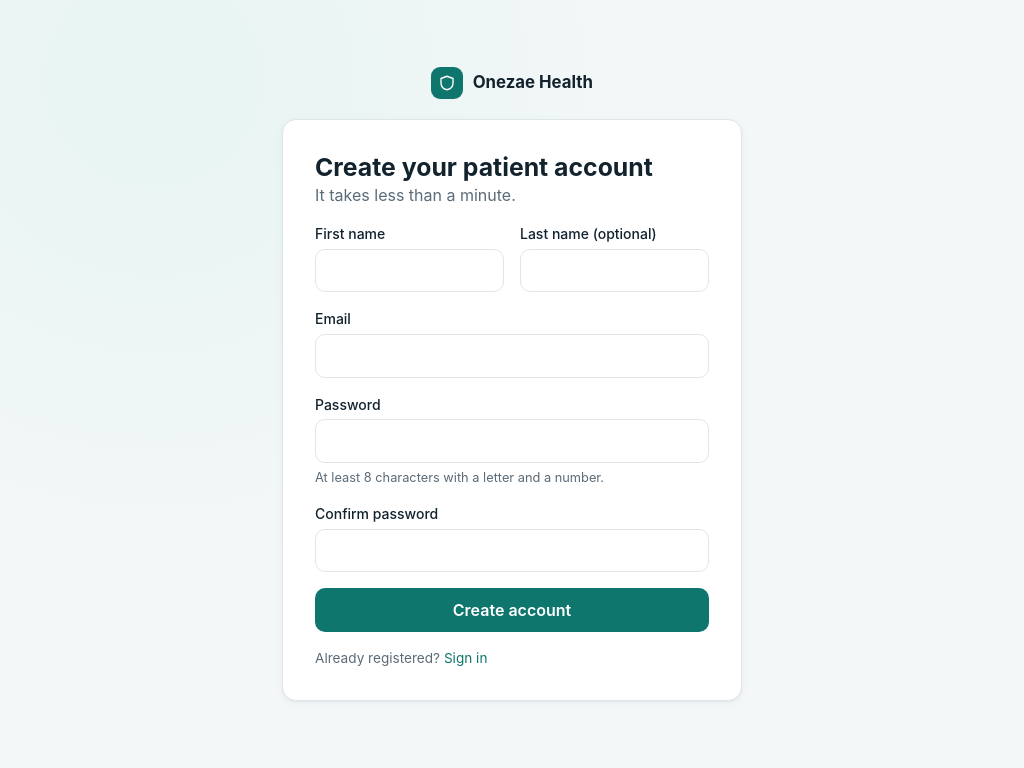
Test: RegisterPage › validates the form
Step 1. Type "not-an-email" into the field labelled "Email" → (512,356), box [315,334,709,378]
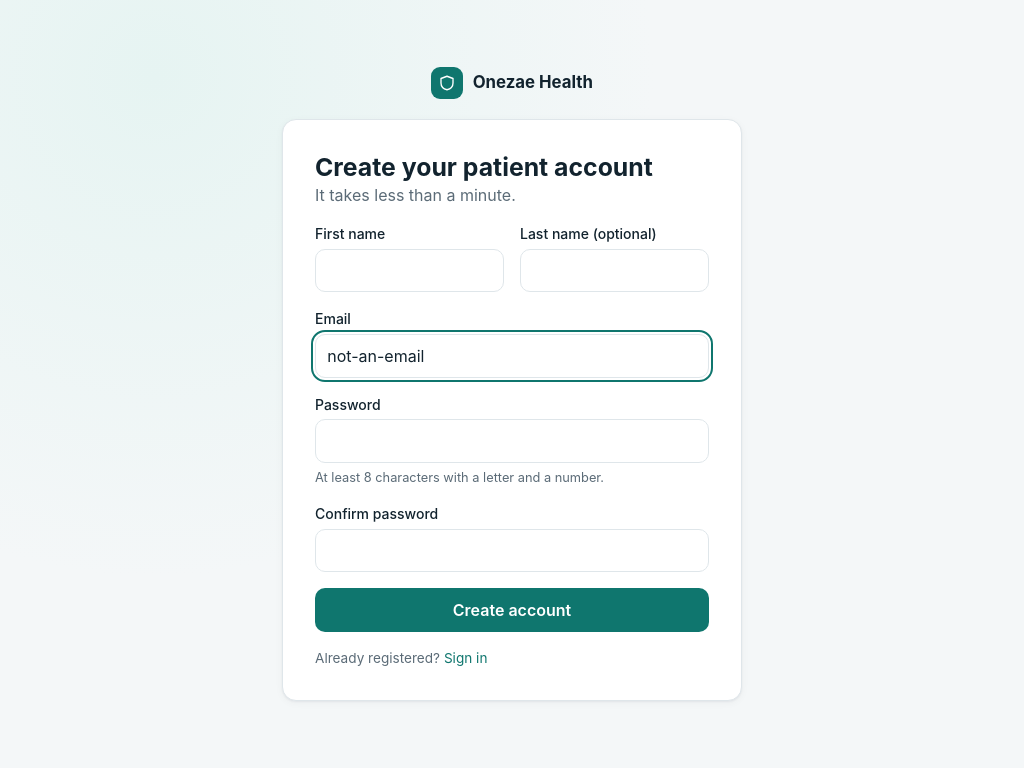
Step 2. Type "lettersonly" into the password field labelled "Password" → (512,441), box [315,419,709,463]
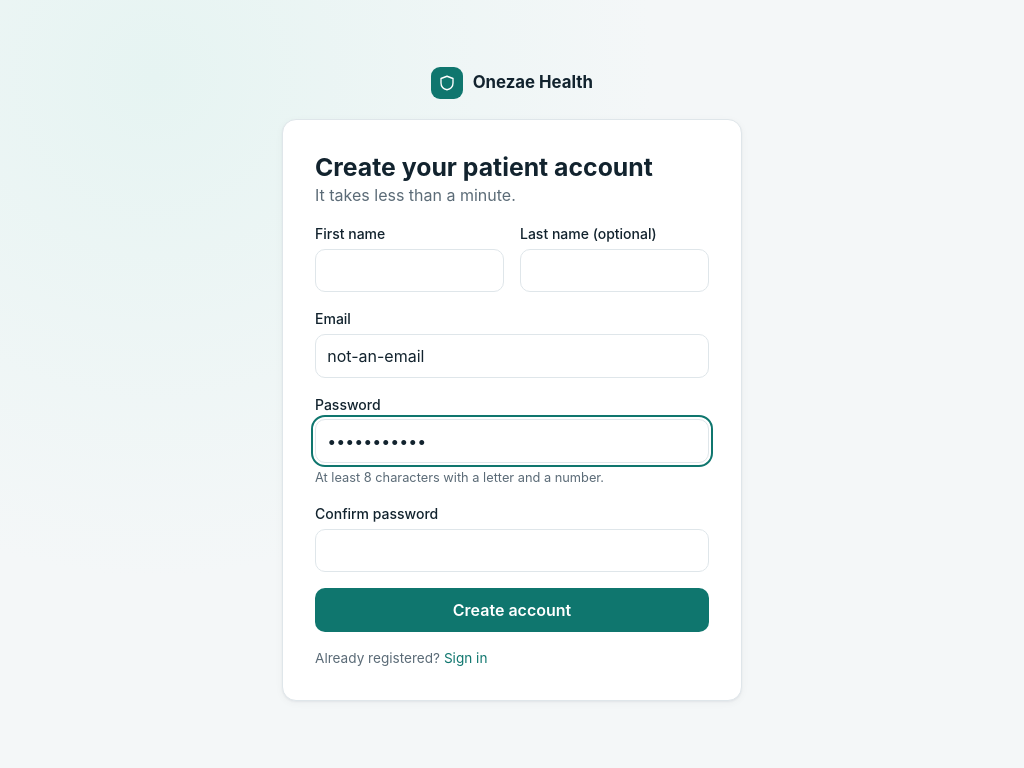
Step 3. Type "different1" into the password field labelled "Confirm password" → (512,550), box [315,529,709,572]
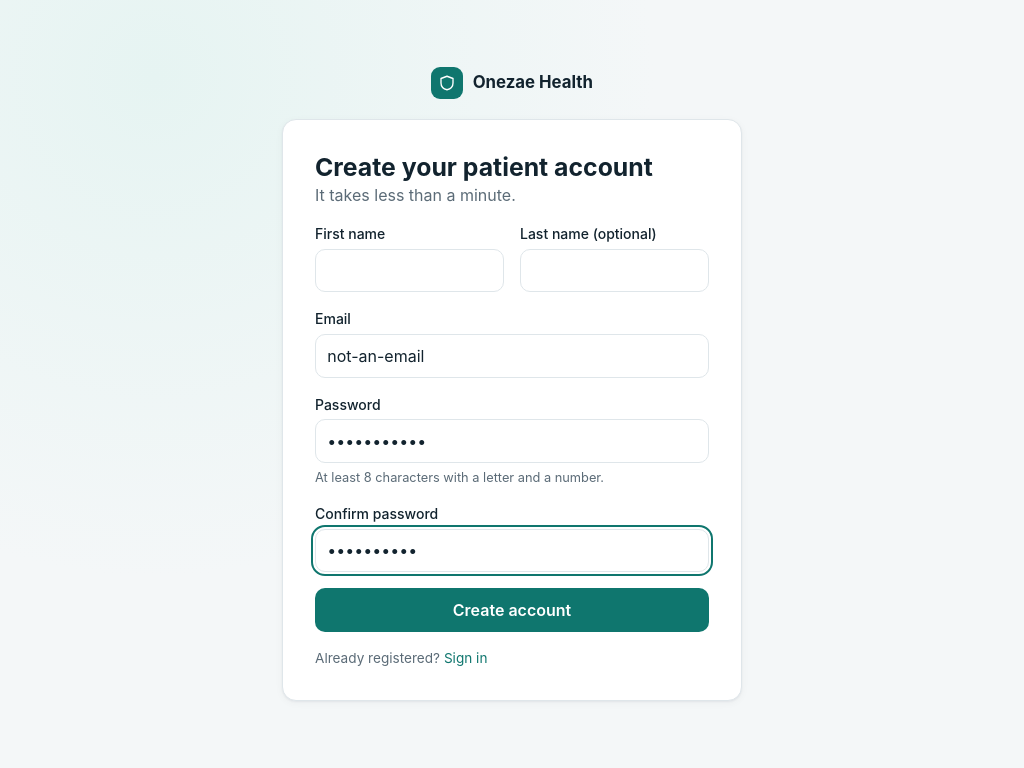
Step 4. Click the button "Create account" → (512,610), box [315,588,709,632]
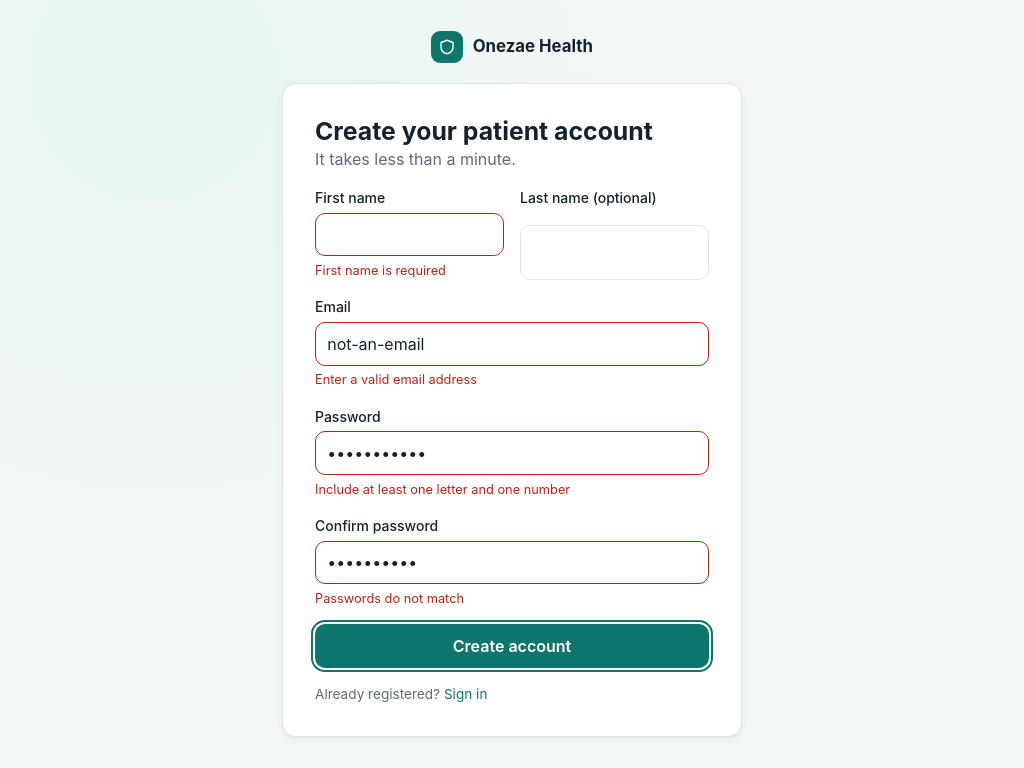
Now the text "First name is required" is shown, box [315,263,446,278]
Now the text "Enter a valid email address" is shown, box [315,372,477,387]
Now the text "Include at least one letter and one number" is shown, box [315,482,570,497]
